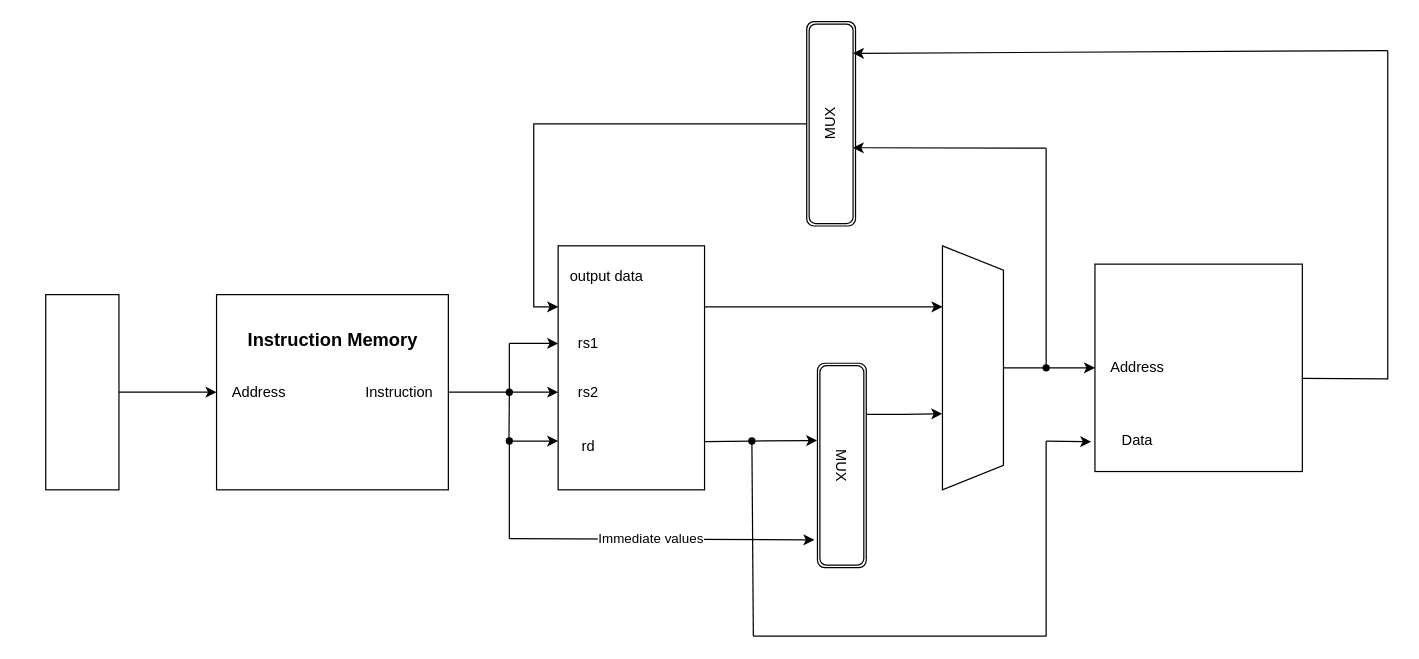
Some shapes in this 1419 by 659 pixel diagram are drawn without their labels. Each missing label, with the box of its shape:
ALU: (941, 245, 1003, 490)
PC: (45, 293, 119, 490)
